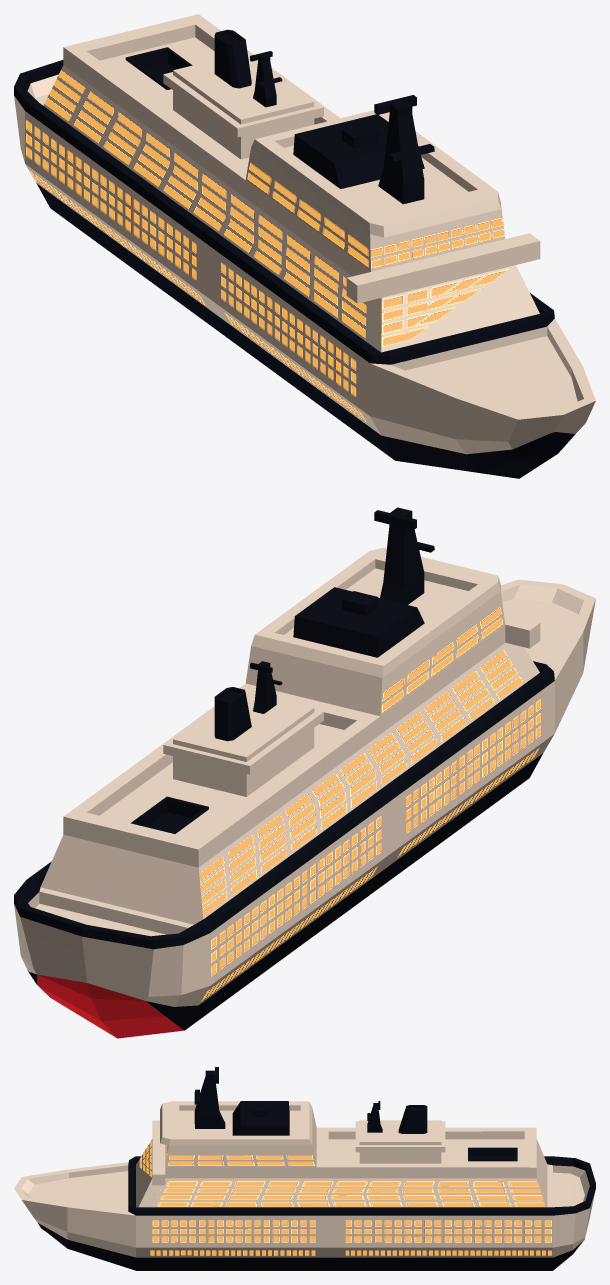
File: cruise.glb
3 renders of one model, top to bottom at view 1: azimuth 30°, elevation 25°; view 2: azimuth 150°, elevation 25°; view 3: azimuth 270°, elevation 25°, orthographic. The views are drawn at different scales.
Visible parts, largest first — view 1: cruise; view 2: cruise; view 3: cruise.
Part boxes in pixels (x1=…): cruise: x1=14, y1=14, x2=595, y2=478; cruise: x1=14, y1=507, x2=595, y2=1038; cruise: x1=14, y1=1067, x2=595, y2=1270.
Bounding box in the file's own units: 33.25 × 54.83 × 150.
Materials: 2 (2 with a texture image).
